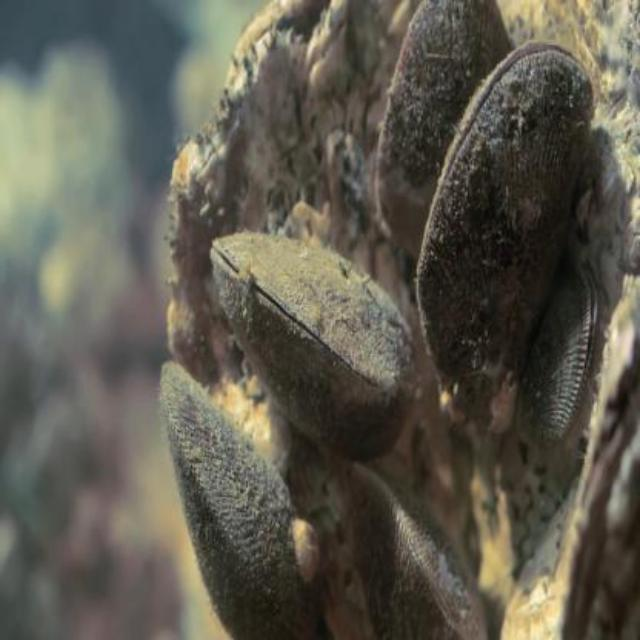Oyster-Closed: (413, 40, 598, 431), (209, 232, 417, 464), (161, 360, 317, 638), (377, 0, 512, 257), (347, 465, 490, 638), (568, 393, 638, 638), (517, 258, 599, 455)
